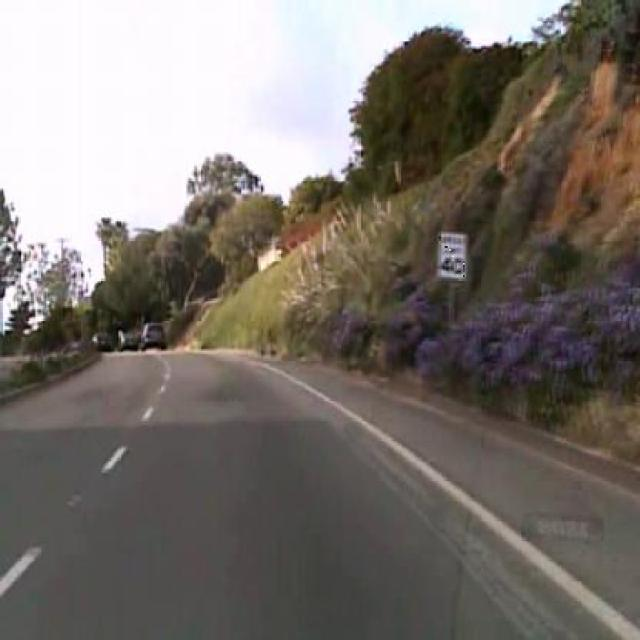speedLimit40: (436, 229, 468, 280)
